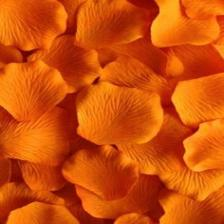orange: (0, 1, 224, 224), (77, 82, 163, 145)
